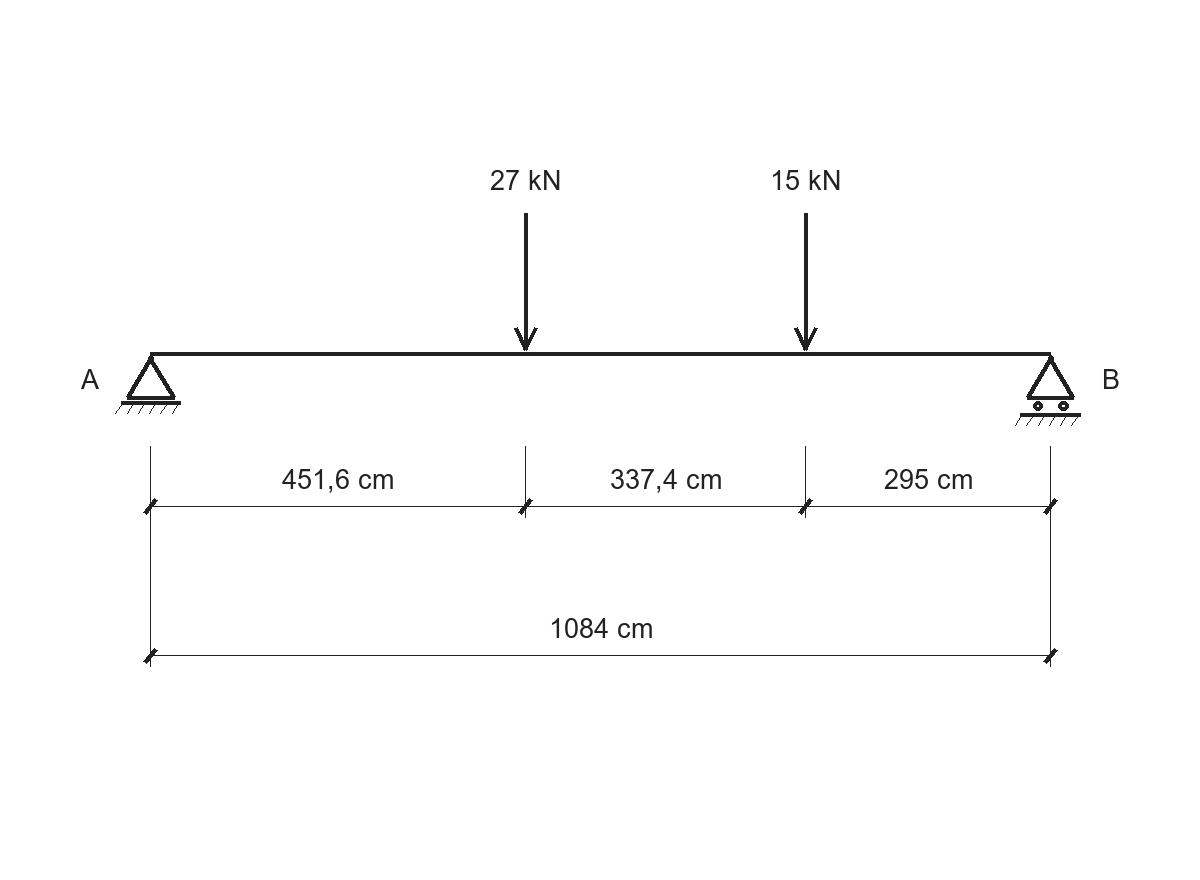pin_support: (115, 355, 181, 414)
point_load: (514, 213, 538, 351), (794, 213, 818, 351)
roller_support: (1015, 355, 1081, 426)
